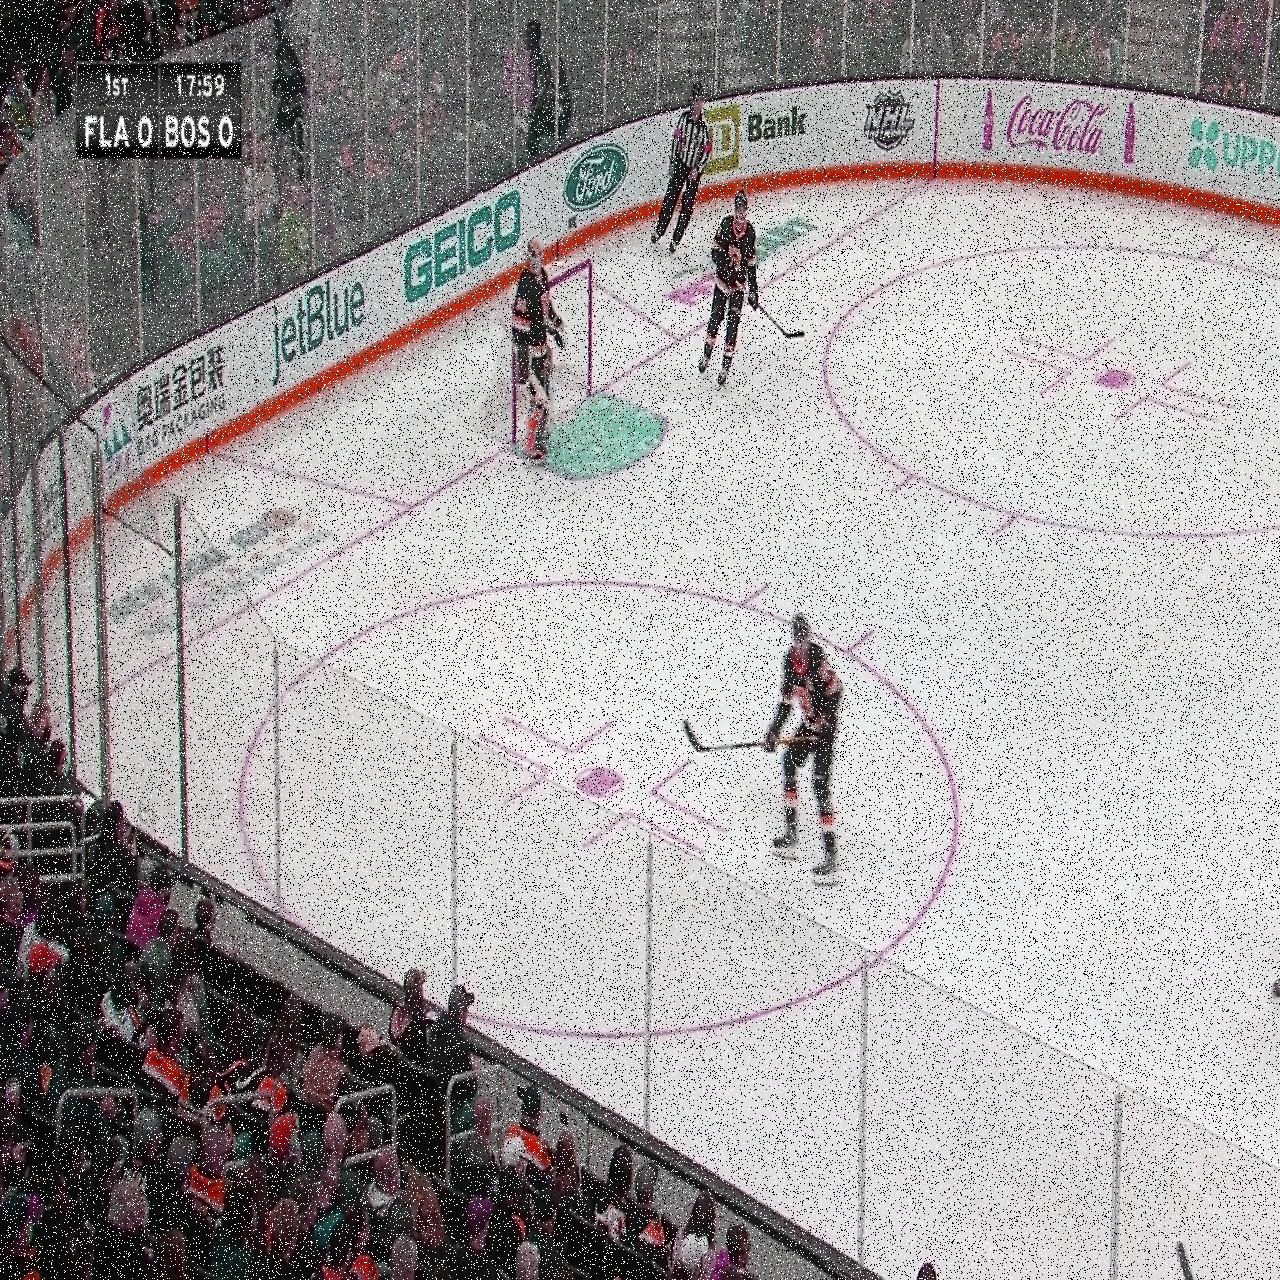Ad: (107, 496, 339, 653), (97, 329, 230, 489), (403, 188, 525, 315), (665, 218, 815, 318), (983, 79, 1138, 165), (271, 266, 367, 388), (687, 95, 810, 170), (1189, 107, 1279, 197), (561, 135, 634, 215), (855, 86, 918, 151)
